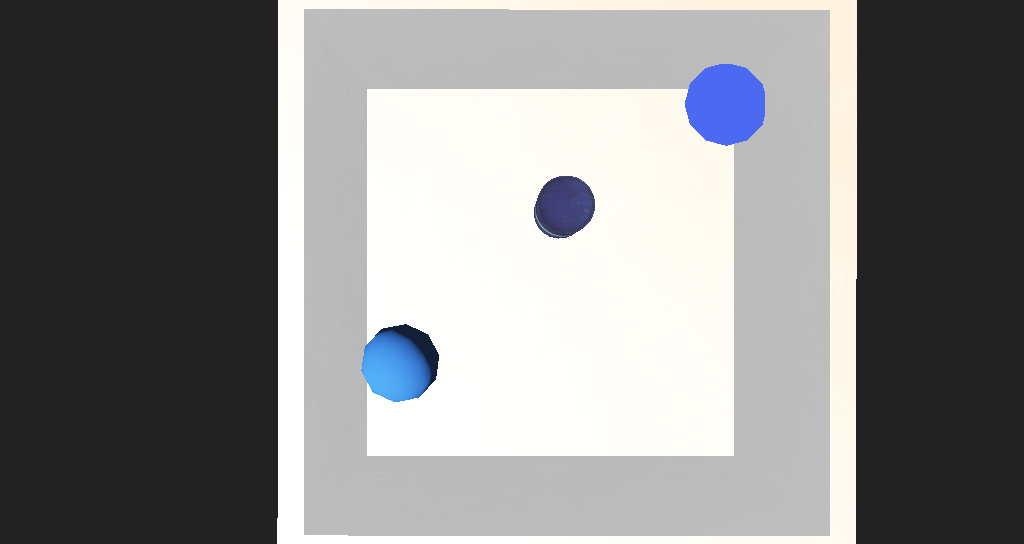cone: (495, 217, 542, 251)
cylinder: (603, 153, 677, 200)
sphere: (354, 296, 414, 344)
